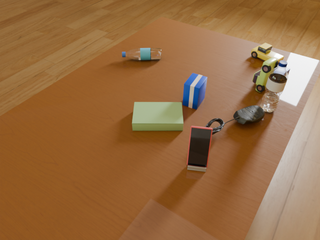book: (132, 102, 183, 131)
bottle: (260, 60, 288, 113), (122, 48, 161, 60)
box: (183, 73, 207, 109)
mouse: (233, 106, 264, 124)
phone: (187, 126, 212, 167)
toy_car: (252, 57, 279, 92), (251, 43, 284, 62)
